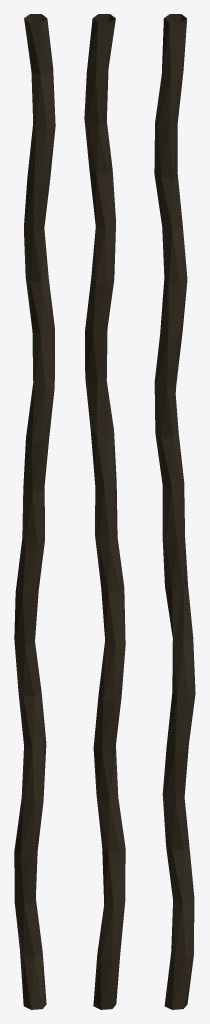
3 renders of one model, left to right at view 1: azimuth 30°, elevation 25°; view 2: azimuth 210°, elevation 25°; view 3: azimuth 270°, elevation 25°, orthographic.
Visible parts, largest first — view 1: pCylinder450; view 2: pCylinder450; view 3: pCylinder450.
Boxes of the visible parts, left/top/right/bottom form: pCylinder450: left=14, top=14, right=55, bottom=1009; pCylinder450: left=84, top=14, right=125, bottom=1009; pCylinder450: left=154, top=14, right=195, bottom=1009.
Size of the model in its own units: 0.9873 by 28 by 1.06.
